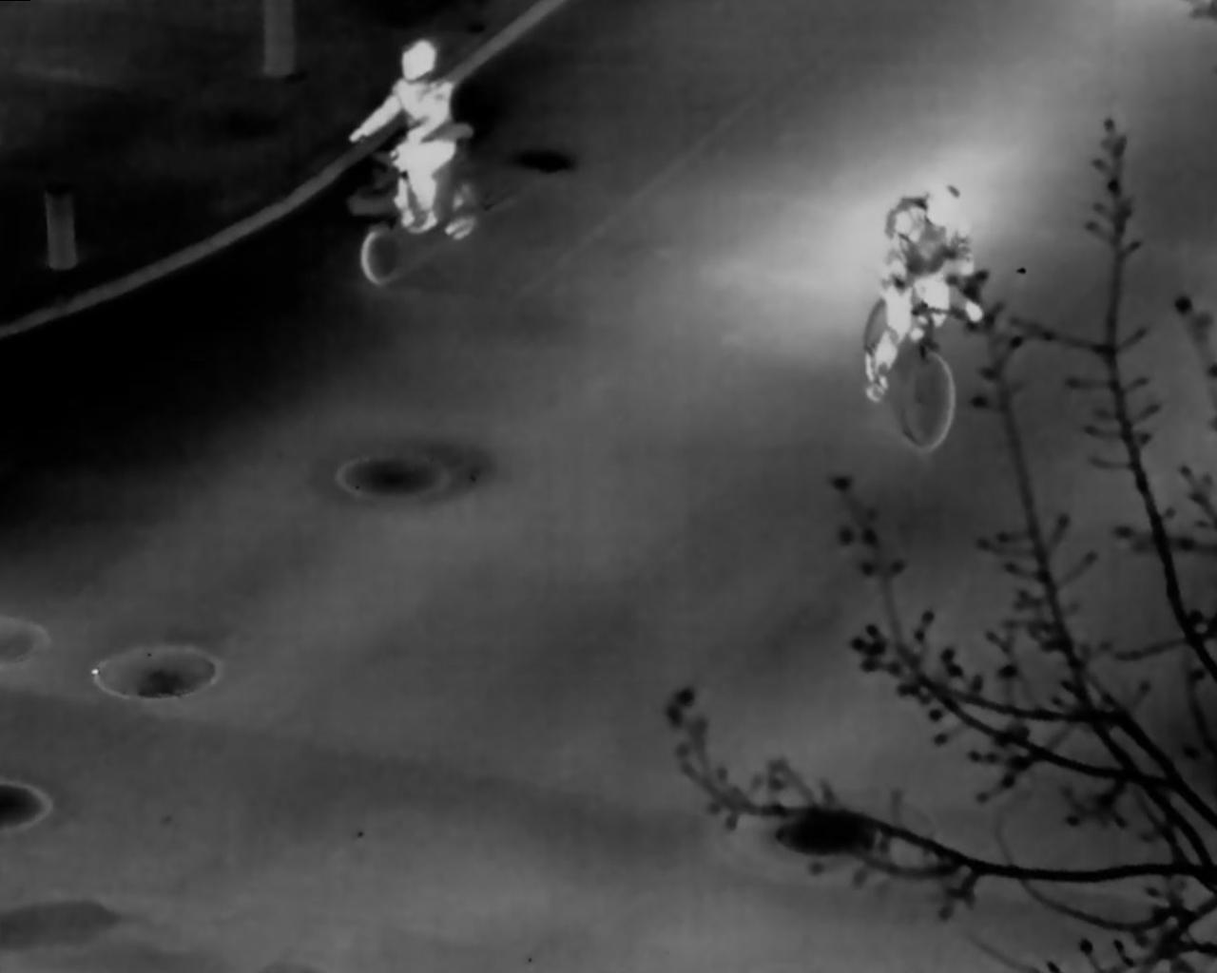person: (863, 181, 988, 403), (346, 35, 456, 234)
